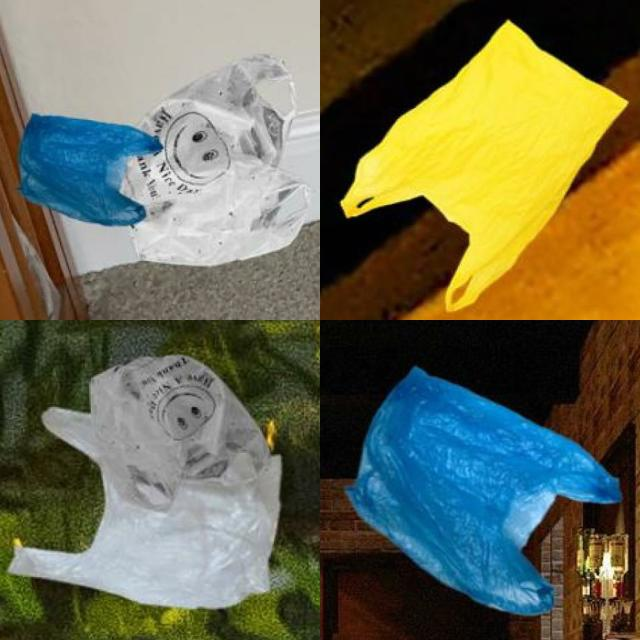Single-layer Plastic: (341, 21, 626, 311), (9, 355, 280, 609), (348, 368, 620, 615), (120, 55, 310, 266), (20, 114, 162, 226)
